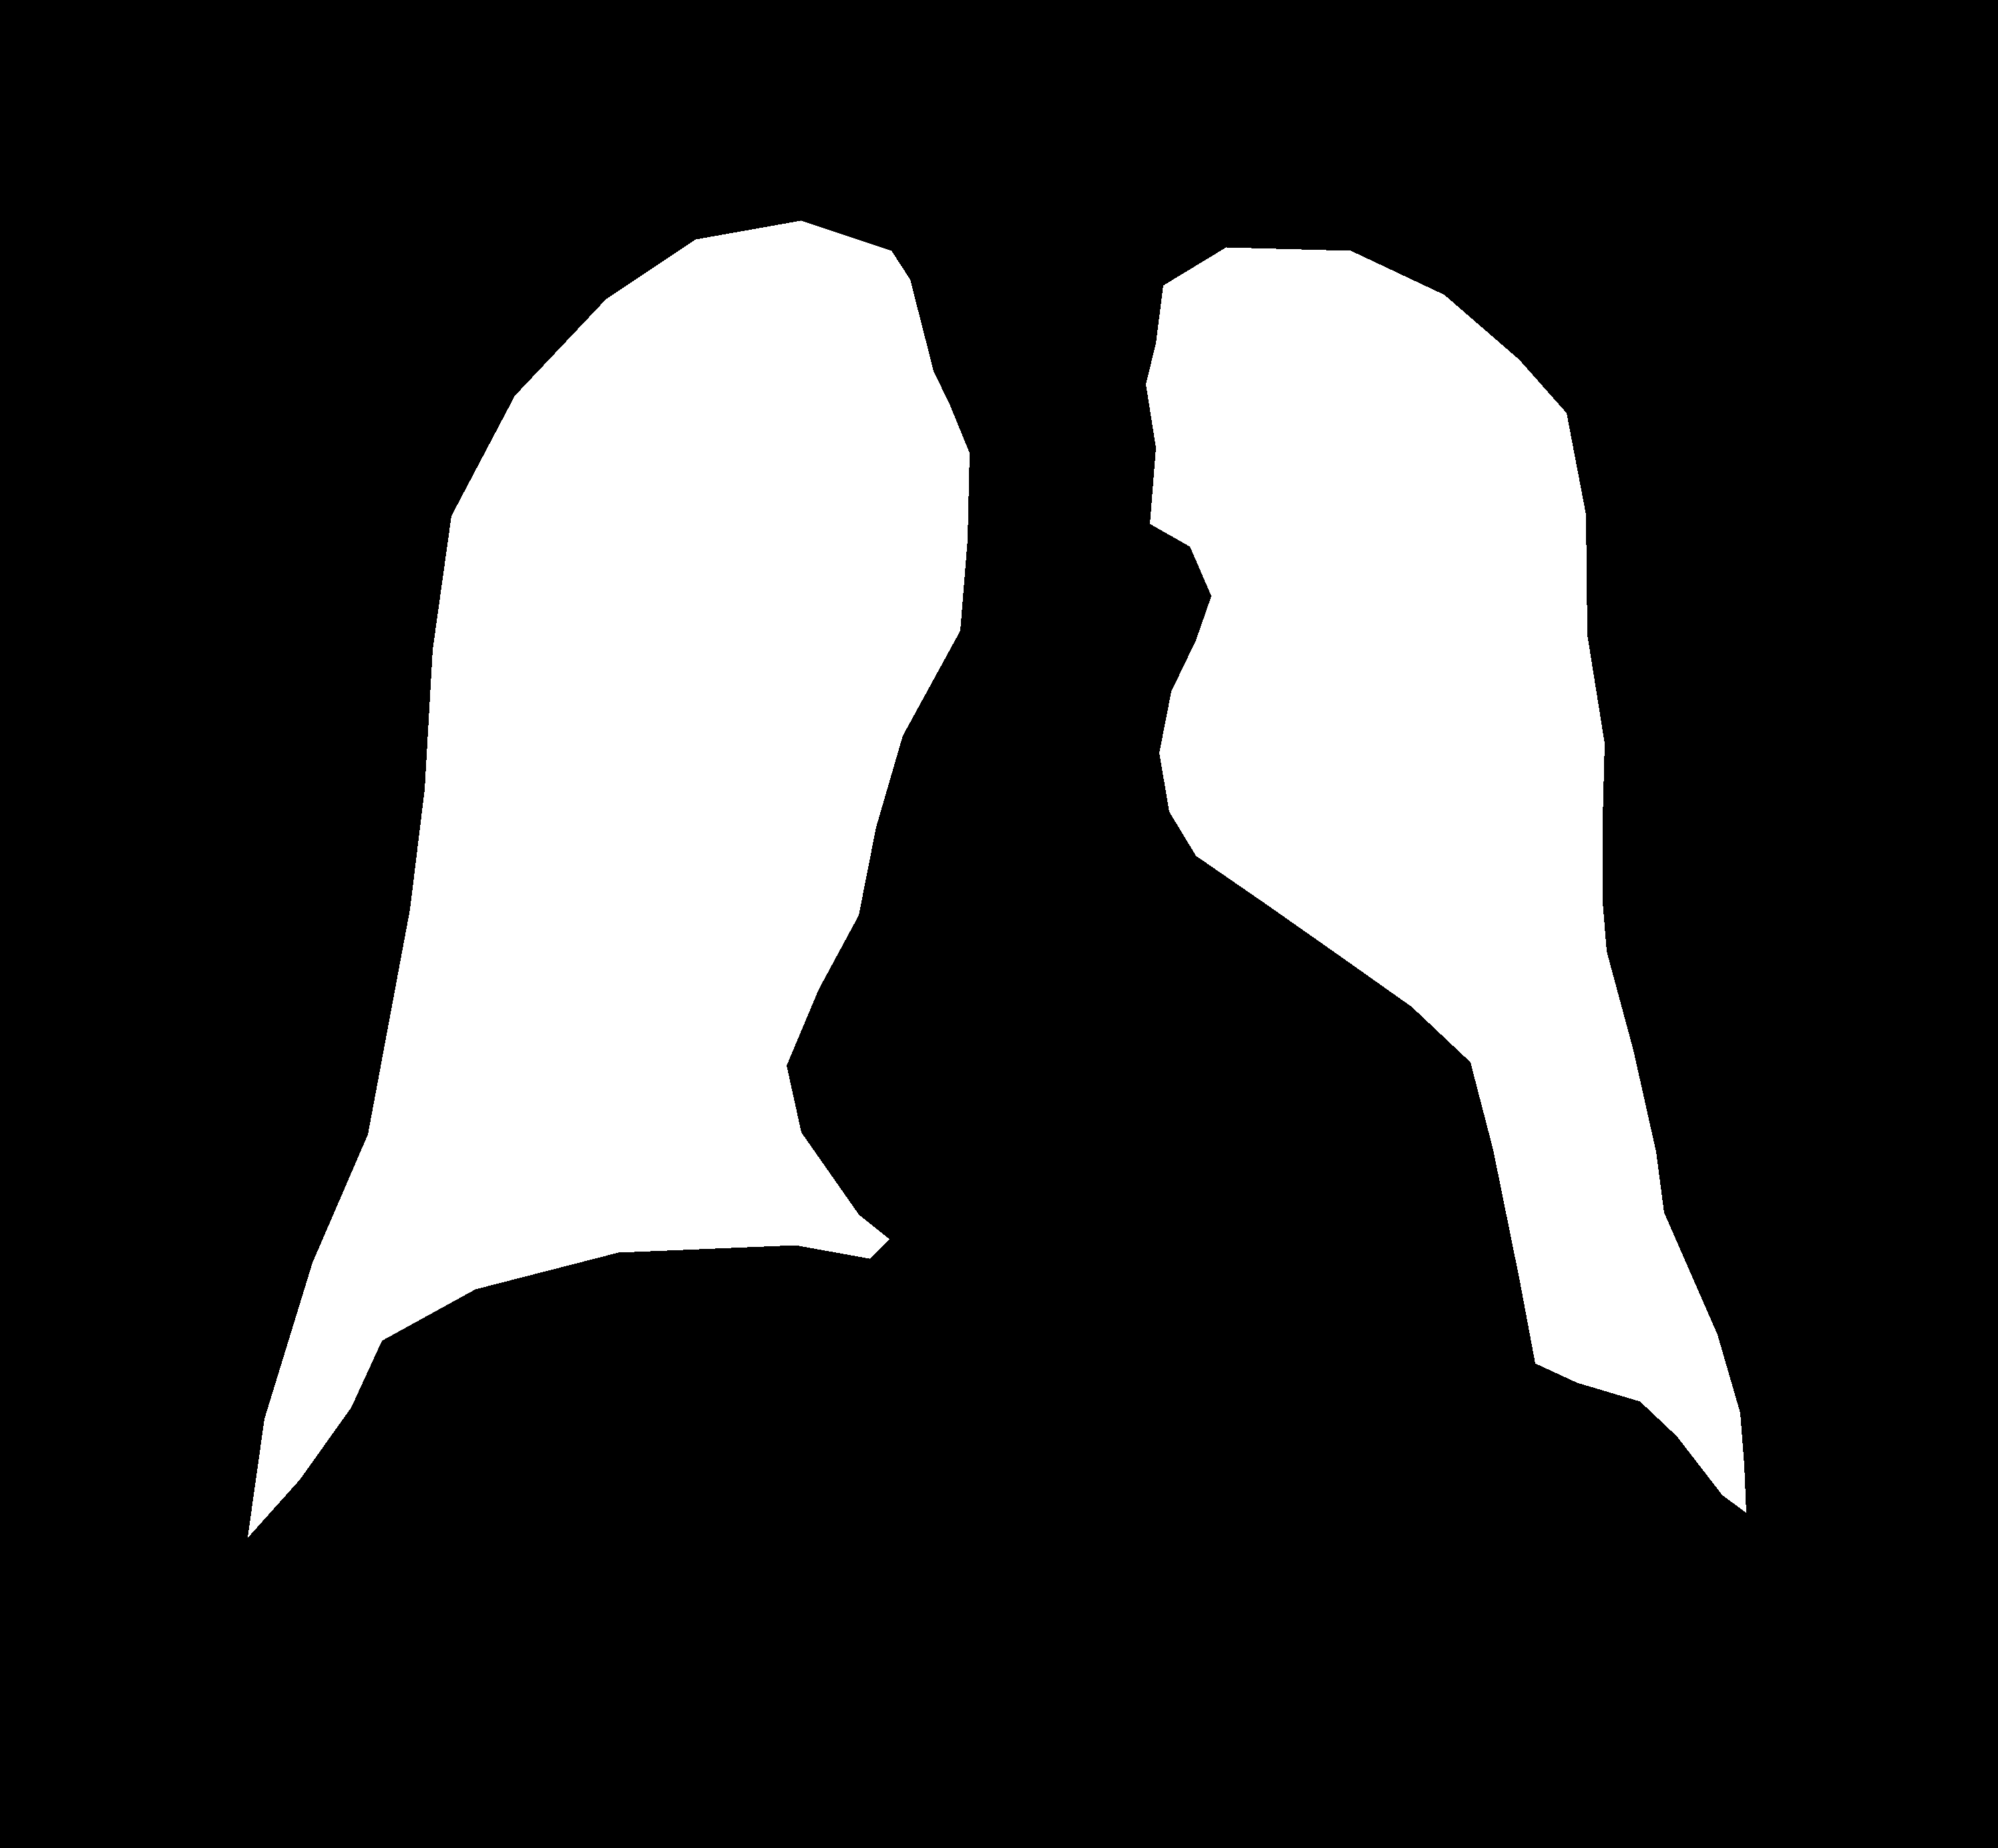heart: (787, 686, 1528, 1354)
left_lung: (247, 221, 969, 1537)
right_lung: (1145, 247, 1746, 1512)
